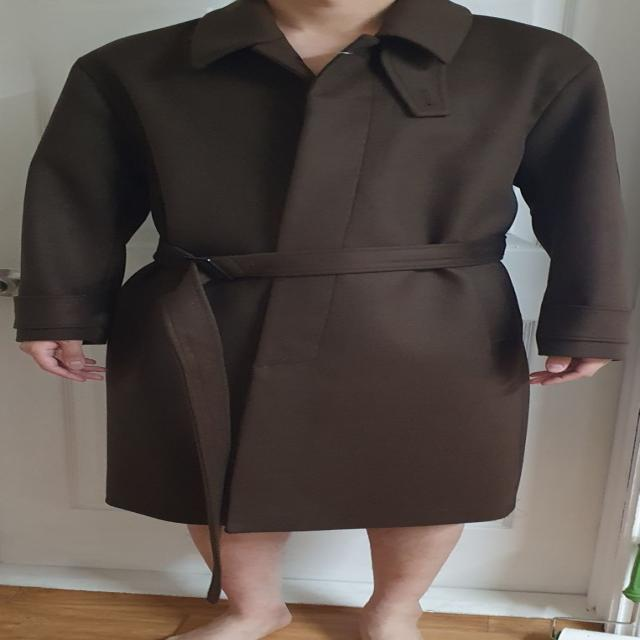coat: (12, 0, 640, 535)
